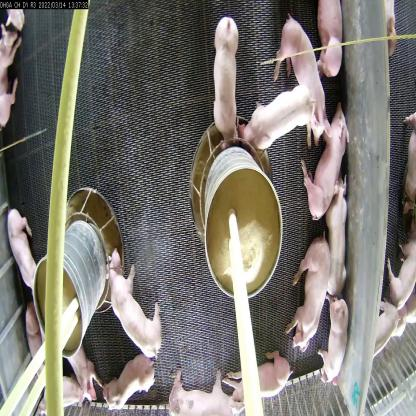Pig: (102, 235, 162, 362), (278, 18, 330, 150), (300, 111, 348, 218), (234, 336, 293, 407), (210, 14, 242, 141), (292, 252, 333, 344), (249, 88, 313, 144), (100, 353, 154, 416), (173, 372, 238, 415), (315, 0, 346, 85), (67, 346, 104, 411), (332, 186, 351, 300), (46, 362, 83, 415), (7, 200, 34, 252), (329, 297, 344, 377), (23, 292, 40, 362), (373, 303, 392, 359)
